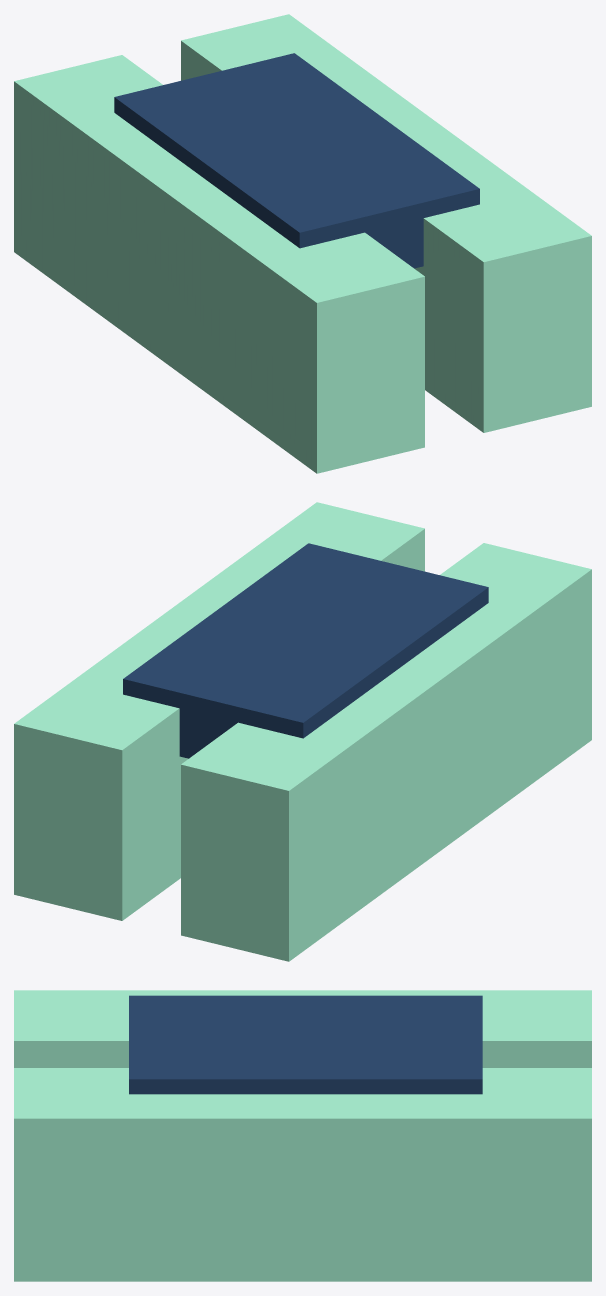
3 renders of one model, top to bottom at view 1: azimuth 30°, elevation 25°; view 2: azimuth 150°, elevation 25°; view 3: azimuth 270°, elevation 25°, orthographic. The views are drawn at different scales.
Visible parts, largest first — view 1: W-1; view 2: W-1; view 3: W-1.
Part boxes in pixels (box(x1,y1,x2,y2)): W-1: box(14, 14, 591, 473); W-1: box(14, 502, 591, 961); W-1: box(14, 990, 591, 1281).
Bounding box in the file's own units: 94.75 × 61.39 × 181.
